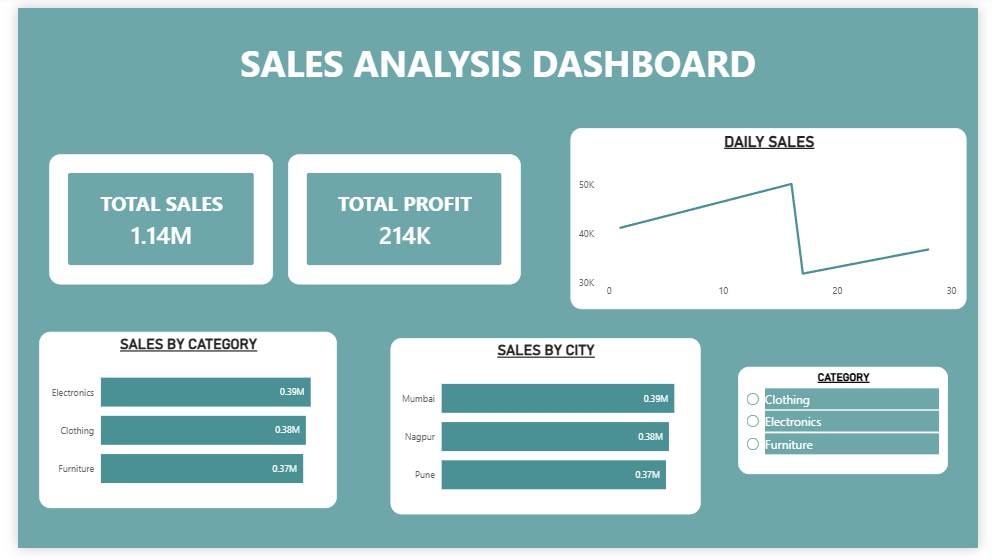

The page's visual inventory and layout, read from the dashboard file:
{"tool":"powerbi","page":{"name":"Page 1","canvas":[1280,720],"ordinal":0},"visuals":[{"type":"cardVisual","fields":{"Data":["Sum(sales_100_rows.sales)"]},"box":[41.7,195,298.3,173.3],"z":0},{"type":"cardVisual","fields":{"Data":["Sum(sales_100_rows.profit)"]},"box":[360,195,310,173.3],"z":1000},{"type":"clusteredBarChart","title":"SALES BY CATEGORY","fields":{"Category":["sales_100_rows.category"],"Y":["Sum(sales_100_rows.sales)"]},"box":[28.3,431.7,396.7,235],"z":2000},{"type":"clusteredBarChart","title":"SALES BY CITY","fields":{"Y":["Sum(sales_100_rows.sales)"],"Category":["sales_100_rows.city"]},"box":[496.7,440,413.3,235],"z":3000},{"type":"lineChart","title":"DAILY SALES ","fields":{"Y":["Sum(sales_100_rows.sales)"],"Category":["sales_100_rows.order_date.Variation.Date Hierarchy.Day"]},"box":[736.7,160,528.3,241.7],"z":4000},{"type":"listSlicer","title":"CATEGORY","fields":{"Values":["sales_100_rows.category"]},"box":[960,478.3,280,143.3],"z":5000},{"type":"textbox","box":[0,0,1280,146.7],"z":5001}]}

Visuals, with their boxes in screenshot pixels (x1, y1, x2, y2), scaled from the page's 1280x720 canvas onto the 993x560 screenshot:
cardVisual - Sum(sales_100_rows.sales): bbox=(32, 152, 264, 286)
cardVisual - Sum(sales_100_rows.profit): bbox=(279, 152, 520, 286)
"SALES BY CATEGORY" clusteredBarChart: bbox=(22, 336, 330, 519)
"SALES BY CITY" clusteredBarChart: bbox=(385, 342, 706, 525)
"DAILY SALES " lineChart: bbox=(572, 124, 981, 312)
"CATEGORY" listSlicer: bbox=(745, 372, 962, 483)
textbox: bbox=(0, 0, 992, 114)
